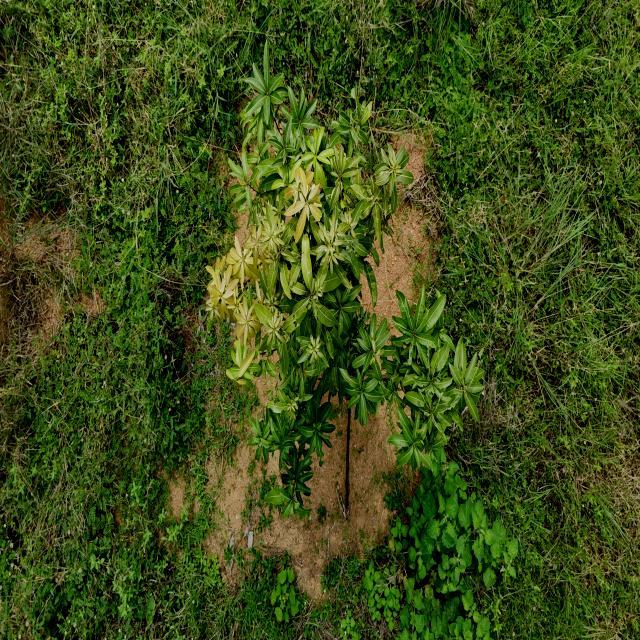mangoTree: (205, 35, 488, 525)
notMangoTree: (355, 521, 520, 640)
